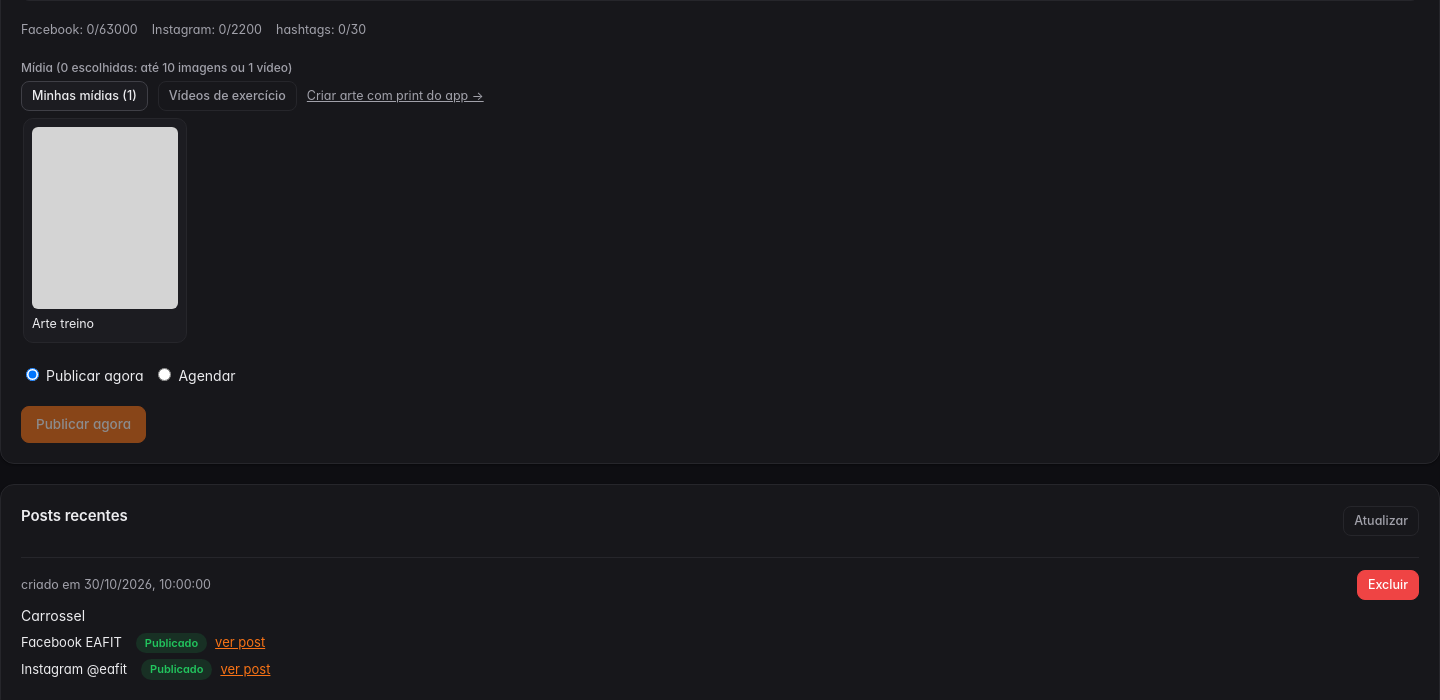
Test case: MarketingPublish: excluir › mostra quando alguma rede não excluiu
This screenshot has width=1440, height=700.
(page scrolled)
Click the button "Excluir" at (1388, 585), box [1357,570,1419,600]
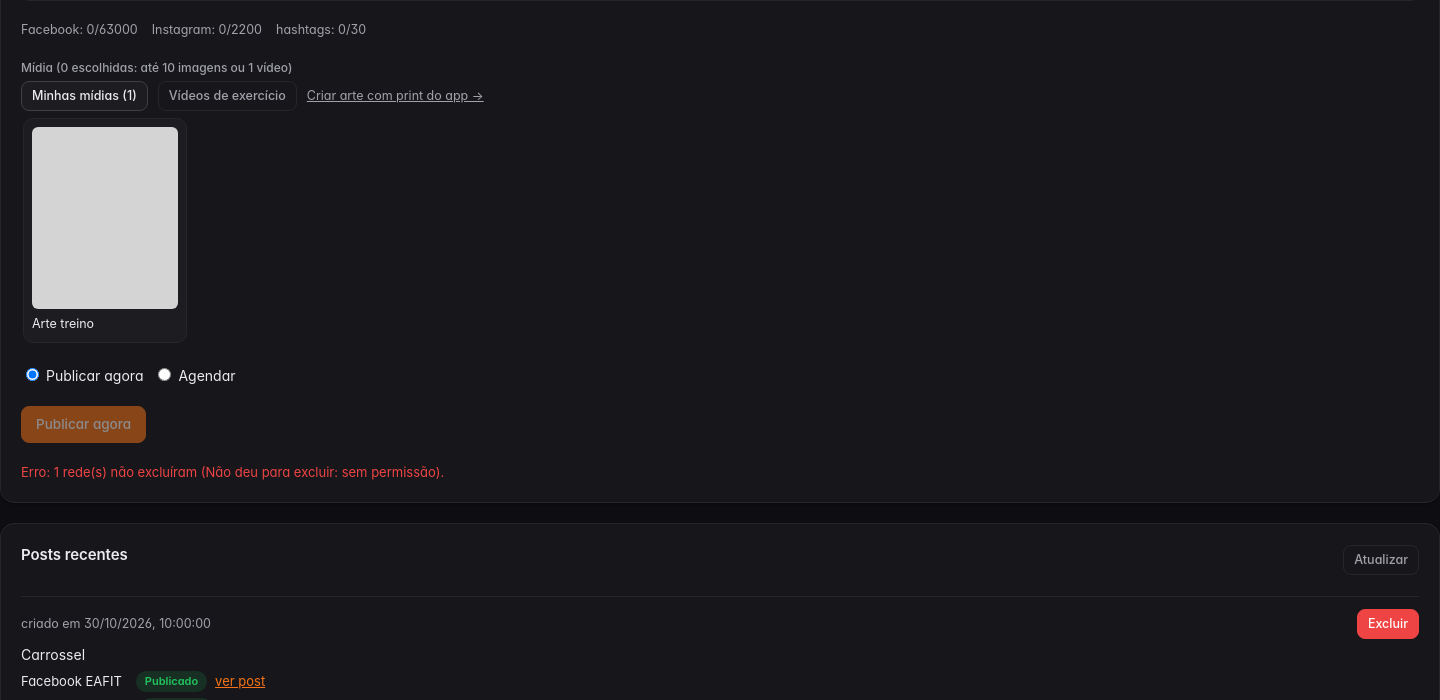
Now the text "1 rede(s) não excluíram (Não deu para excluir: sem permissão)" is shown, box [21,464,444,480]
